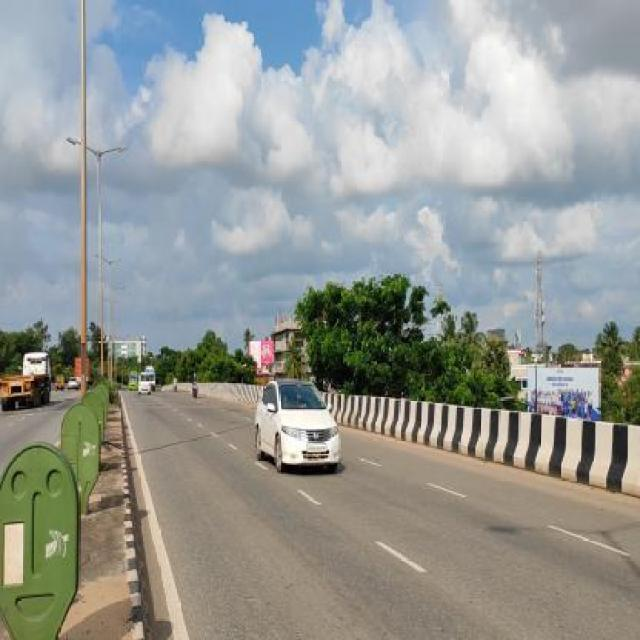vehicle: (251, 369, 346, 482), (0, 346, 57, 424), (136, 363, 152, 402)
